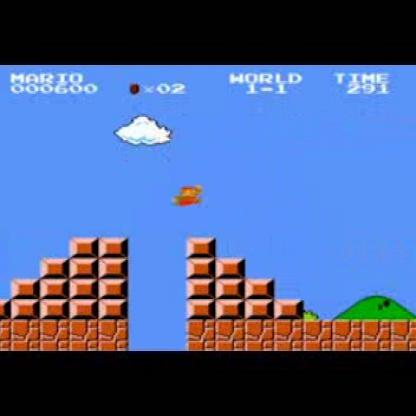Hoyo: (122, 320, 190, 350)
